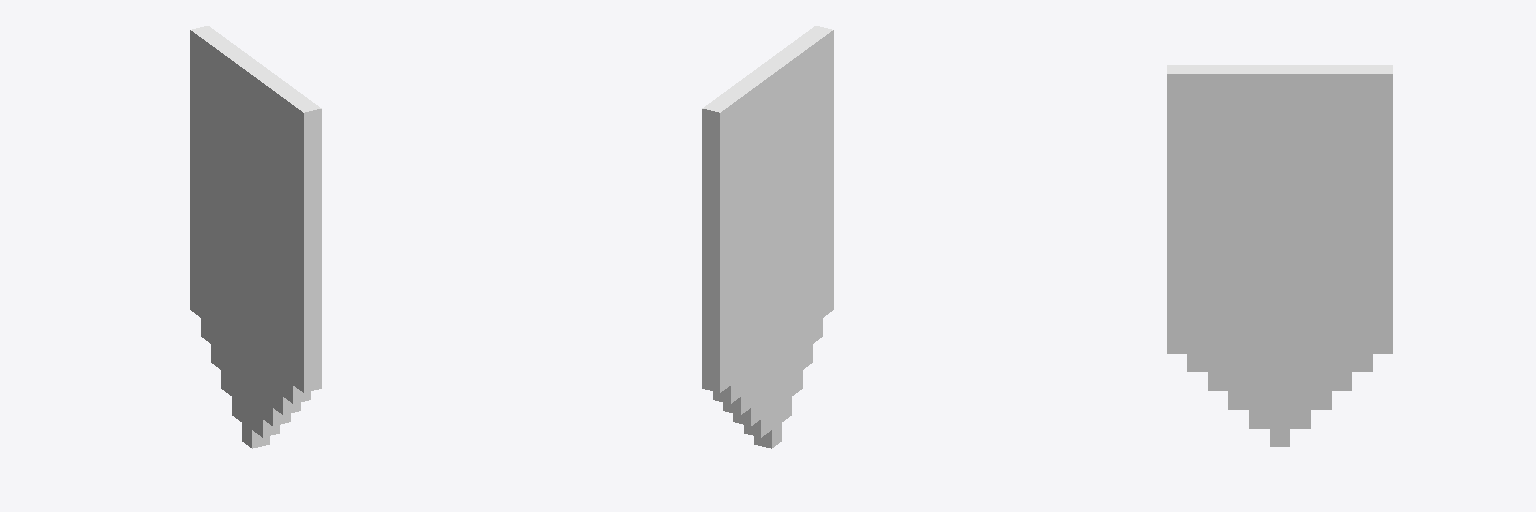
The model's file is castlebanner_red.obj.
3 views of the same model, side by side, from view 1: azimuth 30°, elevation 25°; view 2: azimuth 150°, elevation 25°; view 3: azimuth 270°, elevation 25° (orthographic).
Visible parts, largest first — view 1: castlebanner_red; view 2: castlebanner_red; view 3: castlebanner_red.
Part boxes in pixels (left/top/right/bottom): castlebanner_red: left=190, top=26, right=321, bottom=448; castlebanner_red: left=702, top=26, right=833, bottom=448; castlebanner_red: left=1167, top=65, right=1392, bottom=446.
Bounding box in the file's own units: 1 × 20 × 11.